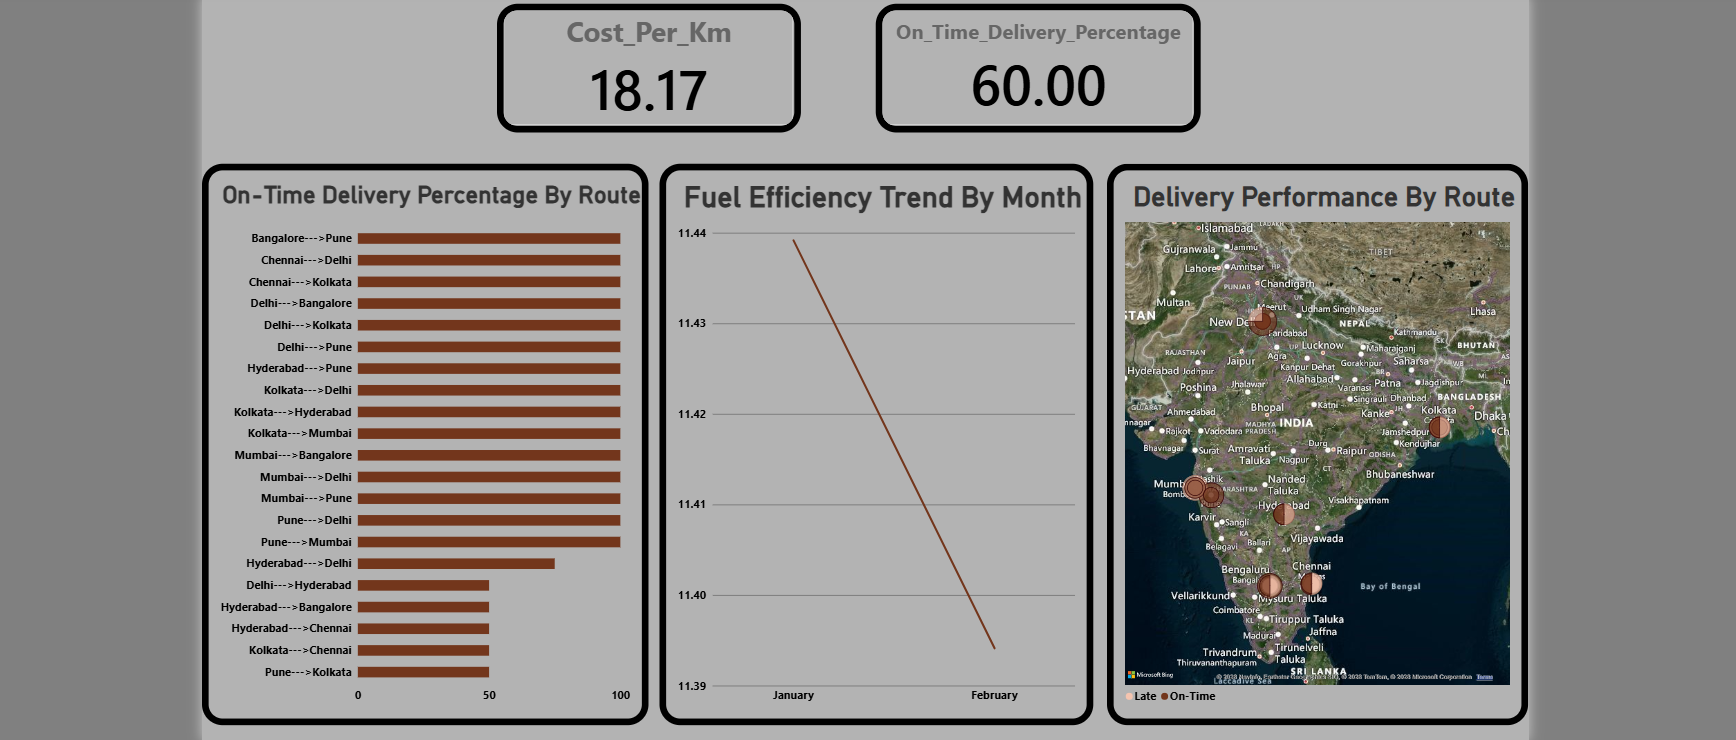

The dashboard page shown, as its layout file describes it:
{"tool":"powerbi","page":{"name":"Transport Operations Dashboard","canvas":[1920,1080],"ordinal":1},"visuals":[{"type":"clusteredBarChart","title":"On-Time Delivery Percentage By Route","fields":{"Category":["Merged_With_Average_Fuel.Route"],"Y":["Merged_With_Average_Fuel.On_Time_Delivery_Percentage"]},"box":[0,244.3,646,812.5],"z":0},{"type":"lineChart","title":"Fuel Efficiency Trend By Month","fields":{"Category":["Merged_With_Average_Fuel.Delivery_Date.Variation.Date Hierarchy.Month"],"Y":["Merged_With_Average_Fuel.Fuel_Efficiency"]},"box":[662.3,244.3,628,812.5],"z":1},{"type":"cardVisual","fields":{"Data":["Merged_With_Average_Fuel.Cost_Per_Km"]},"box":[427.1,12.7,439.7,186.4],"z":2},{"type":"cardVisual","fields":{"Data":["Merged_With_Average_Fuel.On_Time_Delivery_Percentage"]},"box":[975.4,12.7,470.5,186.4],"z":3},{"type":"map","title":"Delivery Performance By Route","fields":{"Category":["Merged_With_Average_Fuel.Route"],"Series":["Merged_With_Average_Fuel.Delivery_Status"],"Size":["Merged_With_Average_Fuel.Total_Trips"]},"box":[1310.2,244.3,609.9,812.5],"z":4}]}

Visuals, with their boxes in screenshot pixels (x1, y1, x2, y2):
"On-Time Delivery Percentage By Route" clusteredBarChart: (212,165,650,715)
"Fuel Efficiency Trend By Month" lineChart: (661,165,1086,715)
cardVisual - Merged_With_Average_Fuel.Cost_Per_Km: (502,9,799,135)
cardVisual - Merged_With_Average_Fuel.On_Time_Delivery_Percentage: (873,9,1191,135)
"Delivery Performance By Route" map: (1099,165,1512,715)
